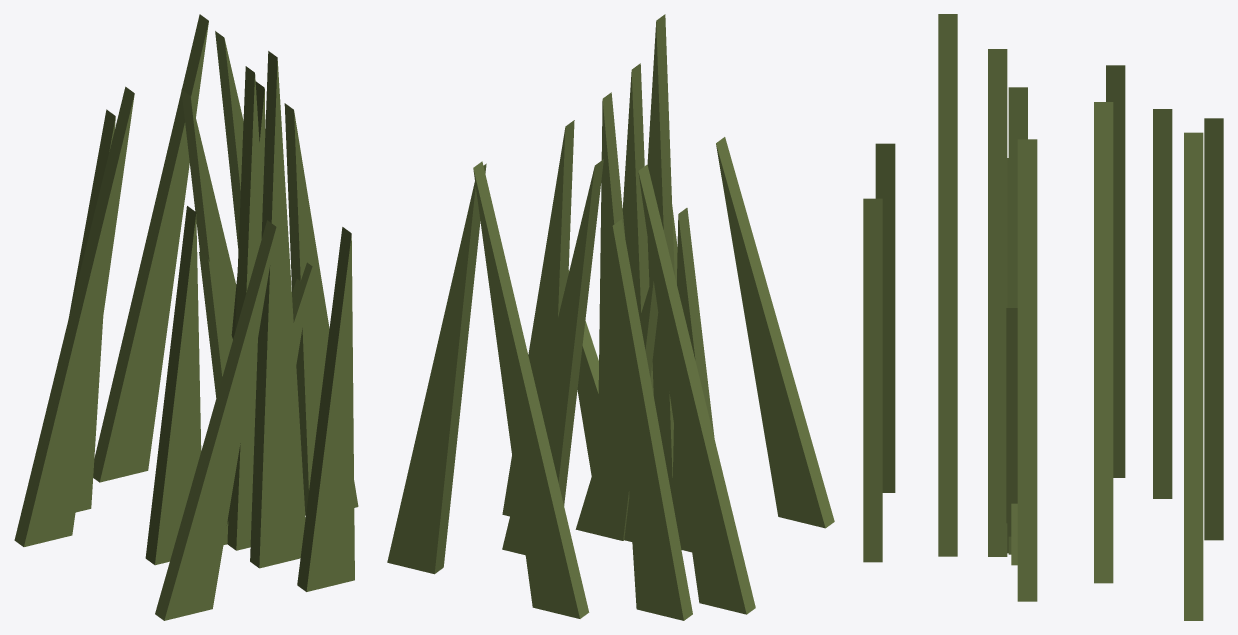
Rendered from grass_clump.fbx.
The picture shows the model from 3 angles, left to right: view 1: azimuth 30°, elevation 25°; view 2: azimuth 150°, elevation 25°; view 3: azimuth 270°, elevation 25°; orthographic projection. The views are drawn at different scales.
Parts seen in each view (by area): view 1: grass_clump; view 2: grass_clump; view 3: grass_clump.
Part boxes in pixels (bbox=[...]): grass_clump: bbox=[14, 14, 358, 620]; grass_clump: bbox=[387, 14, 834, 620]; grass_clump: bbox=[863, 14, 1223, 620].
Bounding box in the file's own units: 163 × 239 × 148.
